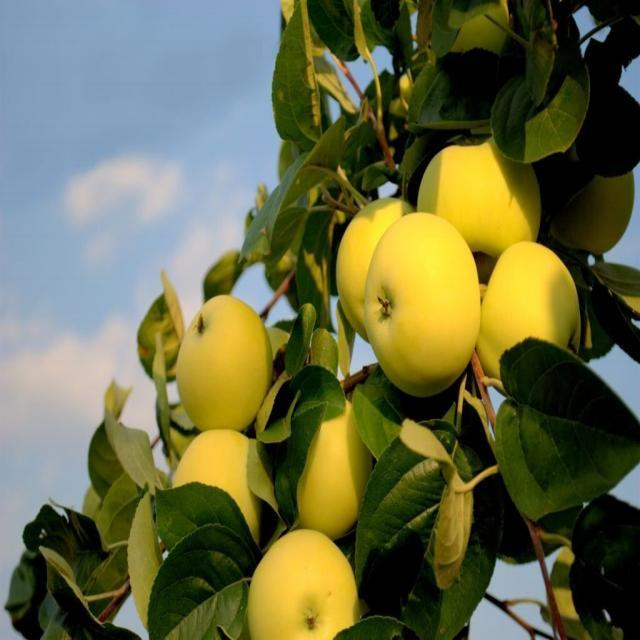Green Apple: (425, 128, 542, 278), (376, 210, 476, 382), (481, 222, 581, 382), (188, 292, 273, 429), (296, 385, 376, 528), (342, 189, 424, 321), (177, 422, 265, 542), (259, 536, 355, 640), (568, 142, 640, 252), (450, 1, 513, 55)
